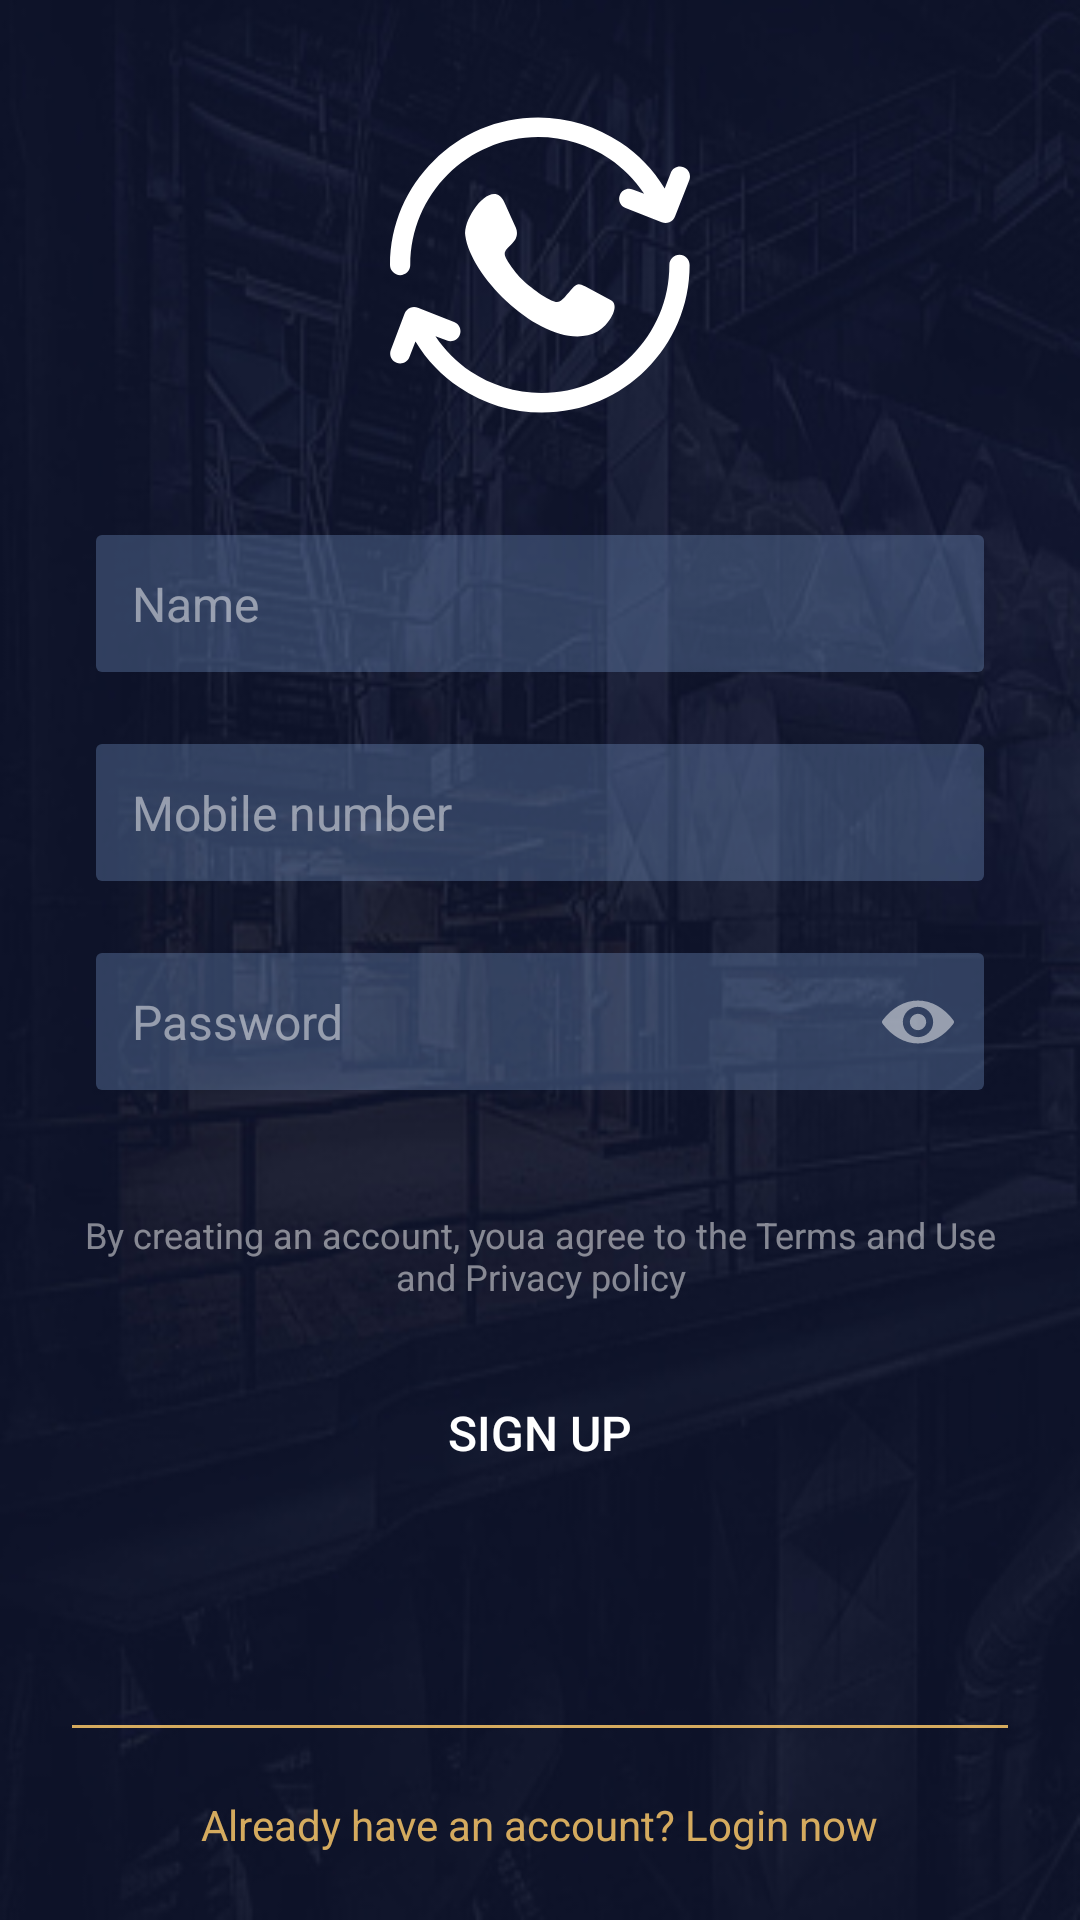

Where icons sit on this 1080w x 1920h app screen, as {"x1": x1, "y1": y1, "x2": x2, "y2": y2}:
iconhide: {"x1": 882, "y1": 1000, "x2": 954, "y2": 1044}
